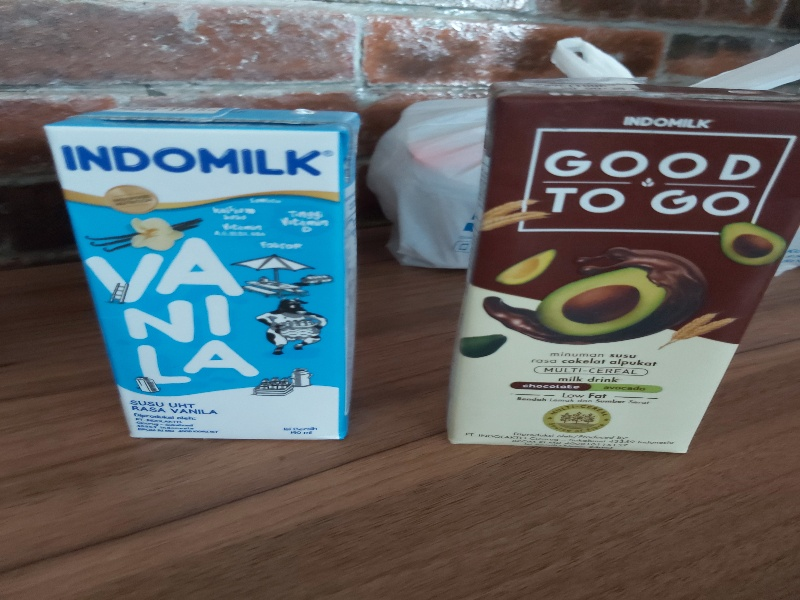cokelat: (447, 82, 800, 457)
vanilla: (40, 105, 361, 440)
